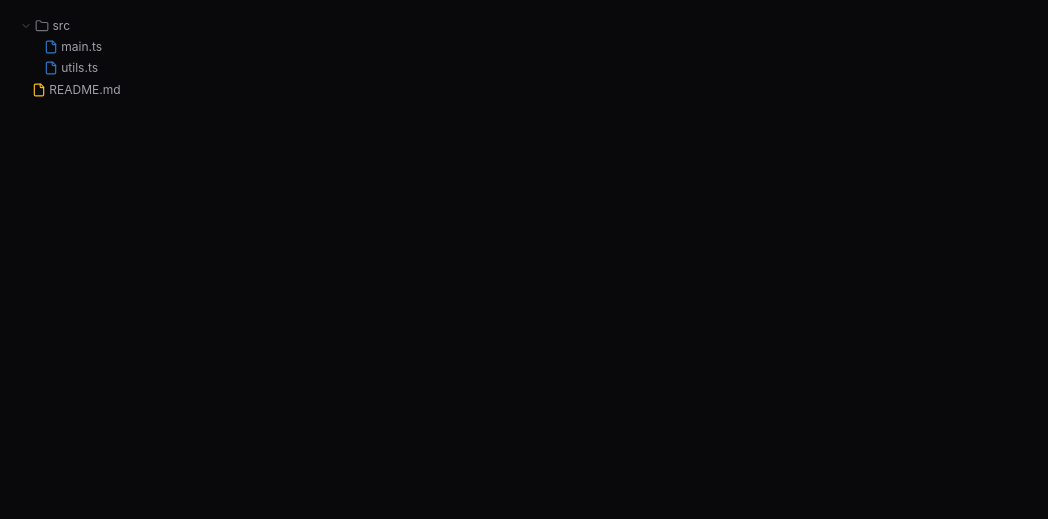
FileTree › cancels rename on Escape
The image size is (1048, 519).
// Trigger rename
Right-click the button "README.md" at (85, 89), box 12,79 -> 1036,100
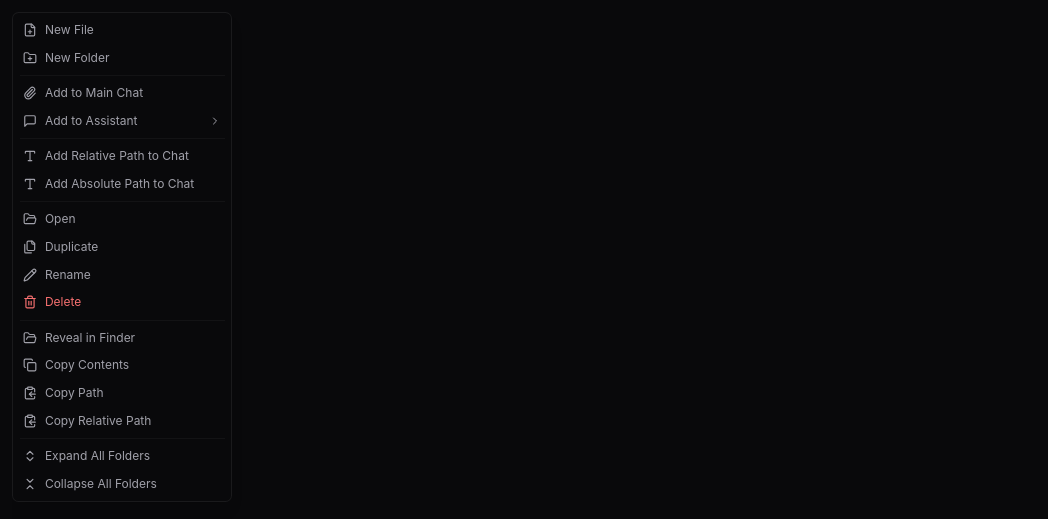
Click the button "Rename" at (122, 275), box 13,261 -> 231,289
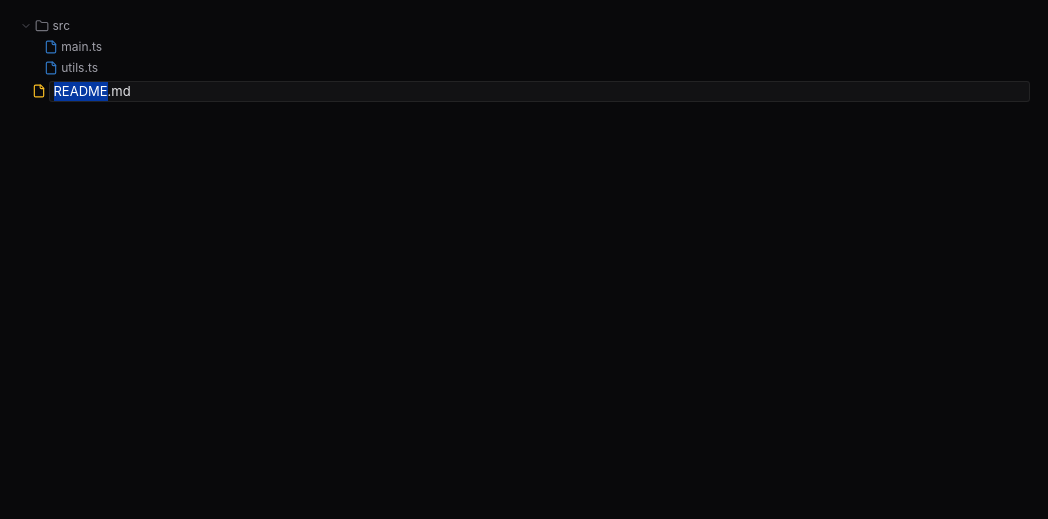
Press Escape in the field showing "README.md", box 49,81 -> 1030,102
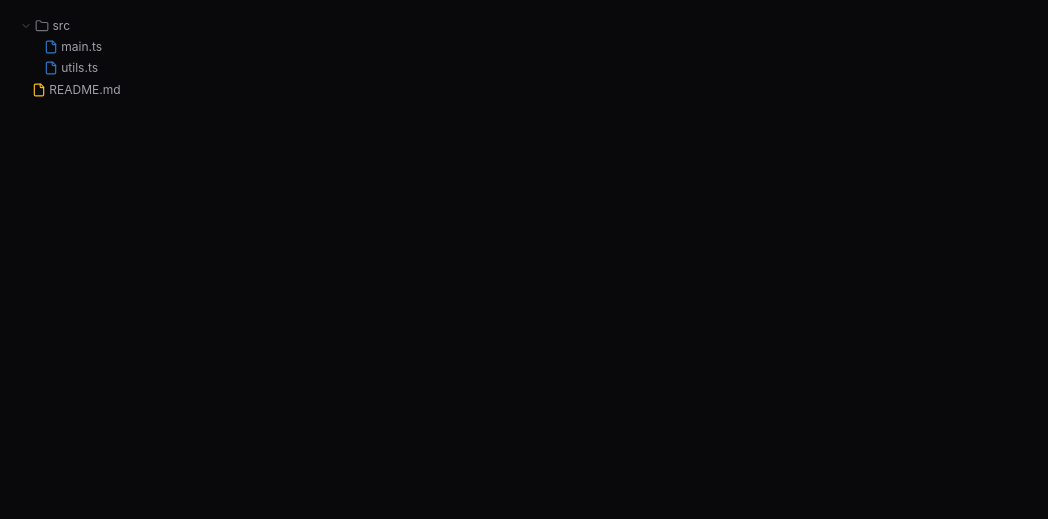
Check: the text "README.md" is shown, box 49,81 -> 121,99
